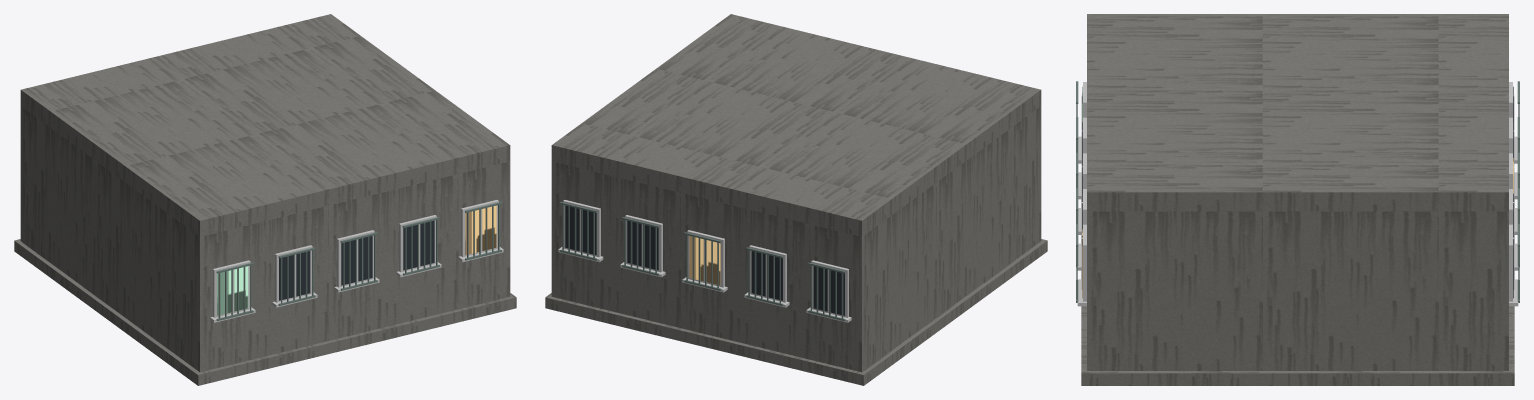
File: floor_concrete.glb
3 views of the same model, side by side, from view 1: azimuth 30°, elevation 25°; view 2: azimuth 150°, elevation 25°; view 3: azimuth 270°, elevation 25° (orthographic). The views are drawn at different scales.
Parts seen in each view (by area): view 1: floor_concrete; view 2: floor_concrete; view 3: floor_concrete.
Part boxes in pixels (x1=…): floor_concrete: x1=14, y1=14, x2=516, y2=385; floor_concrete: x1=545, y1=14, x2=1047, y2=385; floor_concrete: x1=1076, y1=14, x2=1519, y2=385.
Size of the model in its own units: 6.16 by 3 by 6.31.
7 materials, 4 textured.
